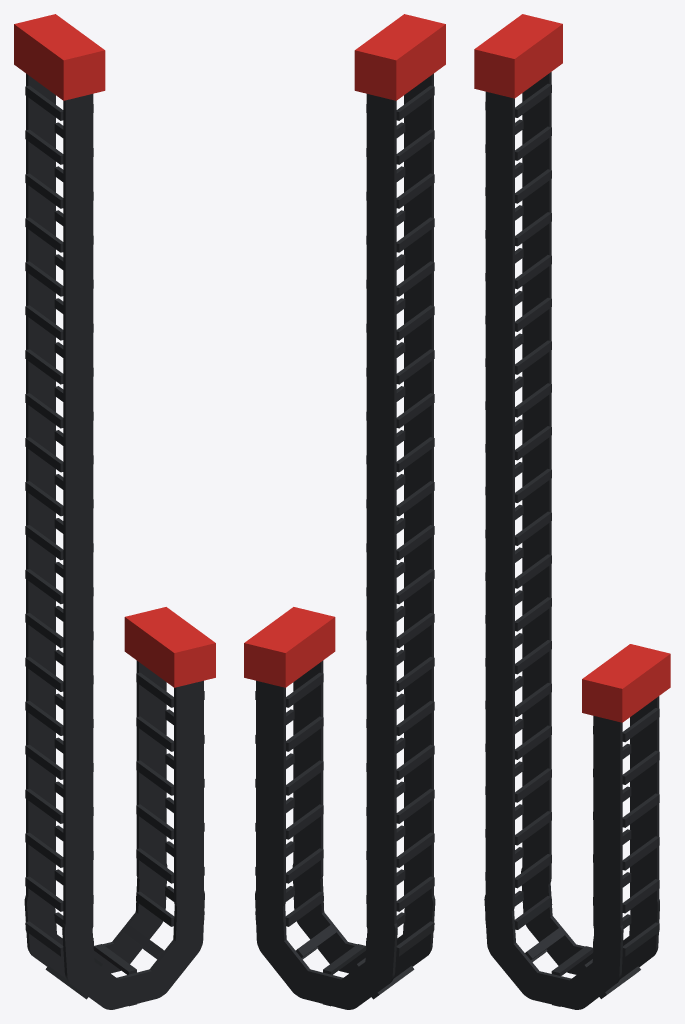
File: drag_chain.glb
3 renders of one model, left to right at view 1: azimuth 30°, elevation 25°; view 2: azimuth 150°, elevation 25°; view 3: azimuth 330°, elevation 25°, orthographic. The views are drawn at different scales.
Parts seen in each view (by area): view 1: bracket_fixed, bracket_moving, link_19, link_02, link_16, link_08, link_01, link_26, link_23, link_04, link_18, link_05 (+19 smaller); view 2: bracket_fixed, bracket_moving, link_19, link_05, link_02, link_01, link_27, link_03, link_06, link_24, link_04, link_23 (+19 smaller); view 3: bracket_fixed, bracket_moving, link_23, link_20, link_03, link_01, link_02, link_13, link_27, link_15, link_24, link_04 (+19 smaller).
Part boxes in pixels (x1,y1,x2,y2): bracket_fixed: (14, 14, 105, 100); bracket_moving: (124, 607, 215, 687); link_19: (24, 886, 94, 985); link_02: (25, 138, 93, 238); link_16: (25, 753, 93, 853); link_08: (25, 401, 93, 502); link_01: (25, 94, 93, 194); link_26: (136, 725, 204, 825); link_23: (135, 856, 204, 957); link_04: (25, 225, 93, 326); link_18: (25, 841, 93, 941); link_05: (25, 270, 93, 370); bracket_fixed: (354, 14, 445, 100); bracket_moving: (244, 607, 335, 687); link_19: (365, 885, 435, 985); link_05: (366, 270, 434, 370); link_02: (366, 138, 434, 238); link_01: (366, 94, 434, 194); link_27: (255, 681, 323, 781); link_03: (366, 182, 434, 282); link_06: (366, 313, 434, 414); link_24: (255, 812, 323, 912); link_04: (366, 225, 434, 326); link_23: (255, 856, 324, 957); bracket_fixed: (474, 14, 562, 98); bracket_moving: (582, 644, 670, 722); link_23: (592, 887, 659, 985); link_20: (488, 912, 581, 999); link_03: (485, 177, 551, 275); link_01: (485, 92, 551, 190); link_02: (485, 134, 551, 232); link_13: (485, 605, 551, 703); link_27: (593, 716, 659, 814); link_15: (485, 691, 551, 789); link_24: (593, 844, 659, 942); link_04: (485, 228, 551, 318).
Size of the model in its own units: 0.055 by 0.3346 by 0.031.
